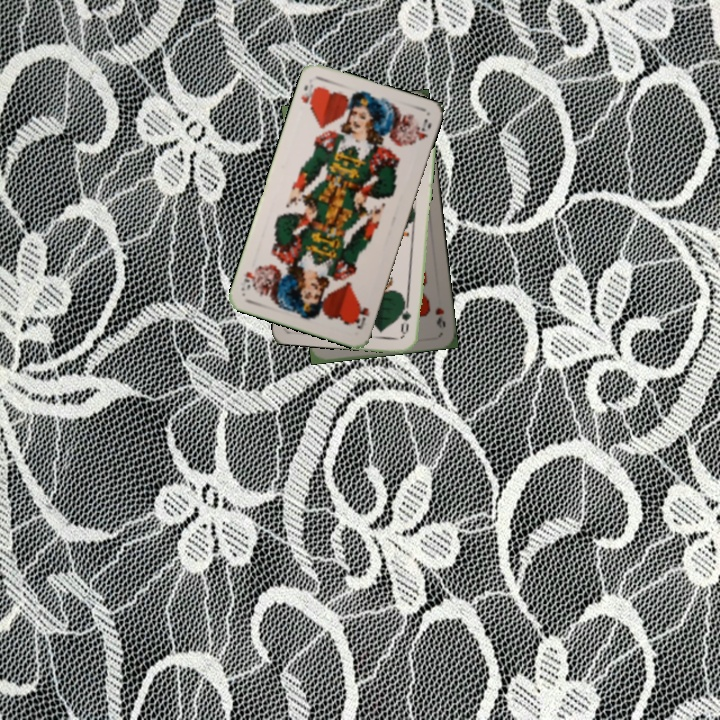GO: (397, 297, 413, 338)
H9: (431, 304, 448, 331)
HO: (297, 80, 320, 112), (350, 299, 372, 332)
